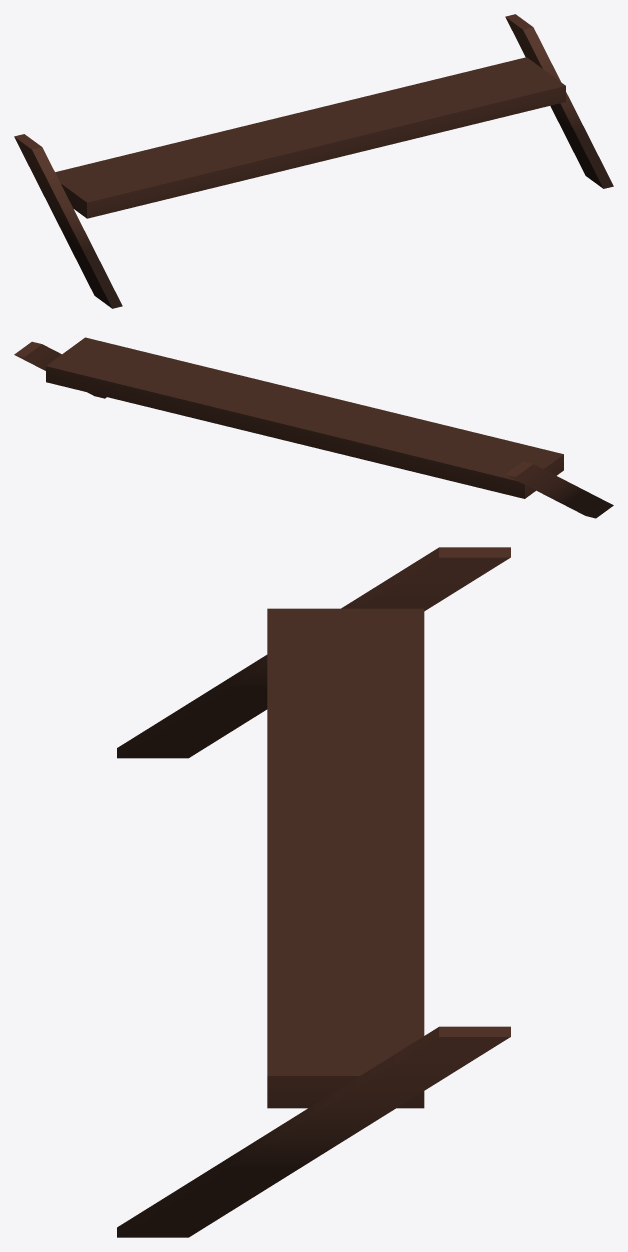
File: Ladder 3M.glb
The picture shows the model from 3 angles, top to bottom: view 1: azimuth 30°, elevation 25°; view 2: azimuth 150°, elevation 25°; view 3: azimuth 270°, elevation 25°; orthographic projection. The views are drawn at different scales.
Visible parts, largest first — view 1: ladder 3M; view 2: ladder 3M; view 3: ladder 3M.
Boxes of the visible parts, left/top/right/bottom form: ladder 3M: left=14, top=14, right=613, bottom=308; ladder 3M: left=14, top=337, right=613, bottom=518; ladder 3M: left=117, top=547, right=510, bottom=1237.
Size of what is drawn, in the model's own units: 2.86 by 0.5463 by 0.9718.
Materials: 1 (1 with a texture image).
